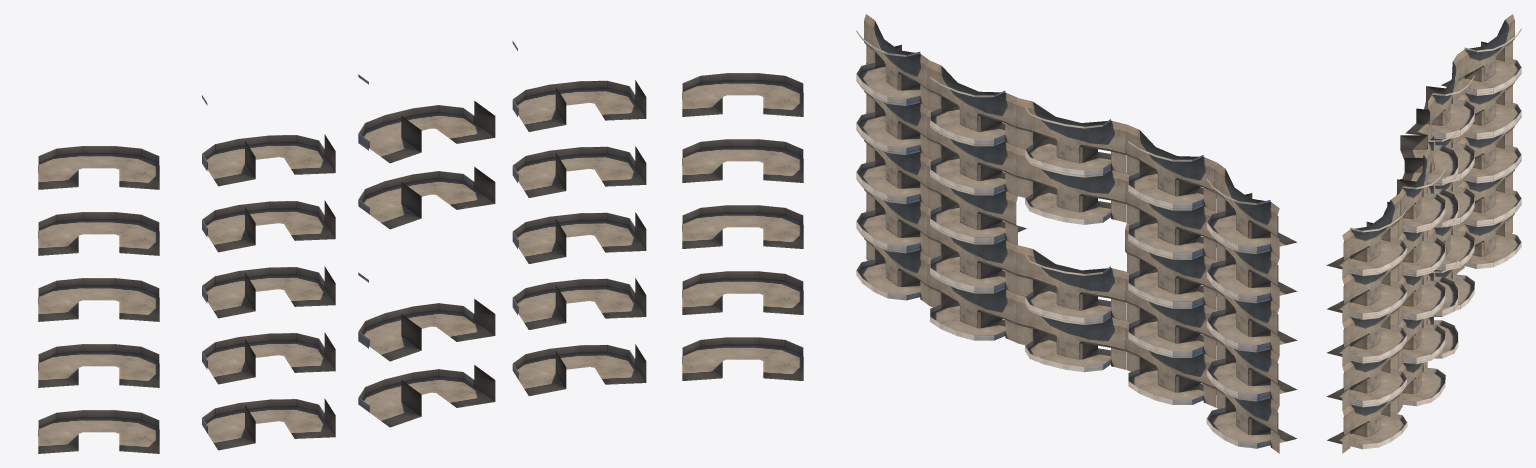
The model's file is OutdoorFacade_mesh.glb.
3 views of the same model, side by side, from view 1: azimuth 30°, elevation 25°; view 2: azimuth 150°, elevation 25°; view 3: azimuth 270°, elevation 25° (orthographic). The views are drawn at different scales.
Parts seen in each view (by area): view 1: OutdoorFacade_mesh; view 2: OutdoorFacade_mesh; view 3: OutdoorFacade_mesh.
Part boxes in pixels (x1,y1,x2,y2): OutdoorFacade_mesh: (38, 41, 803, 453); OutdoorFacade_mesh: (856, 14, 1297, 453); OutdoorFacade_mesh: (1326, 14, 1521, 453).
Bounding box in the file's own units: 97.93 × 45.37 × 36.44.
1 material, 1 textured.
